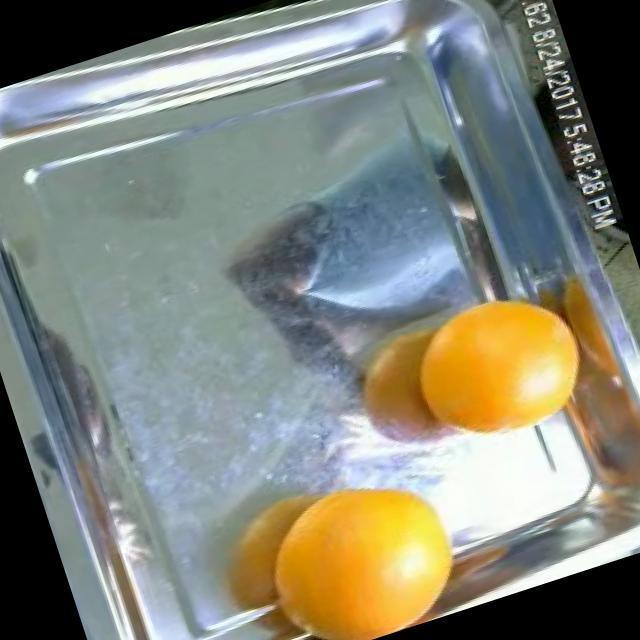Fruit: (376, 260, 620, 470)
